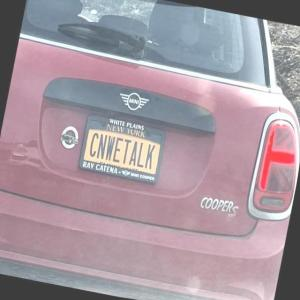Plate: (77, 113, 167, 183)
